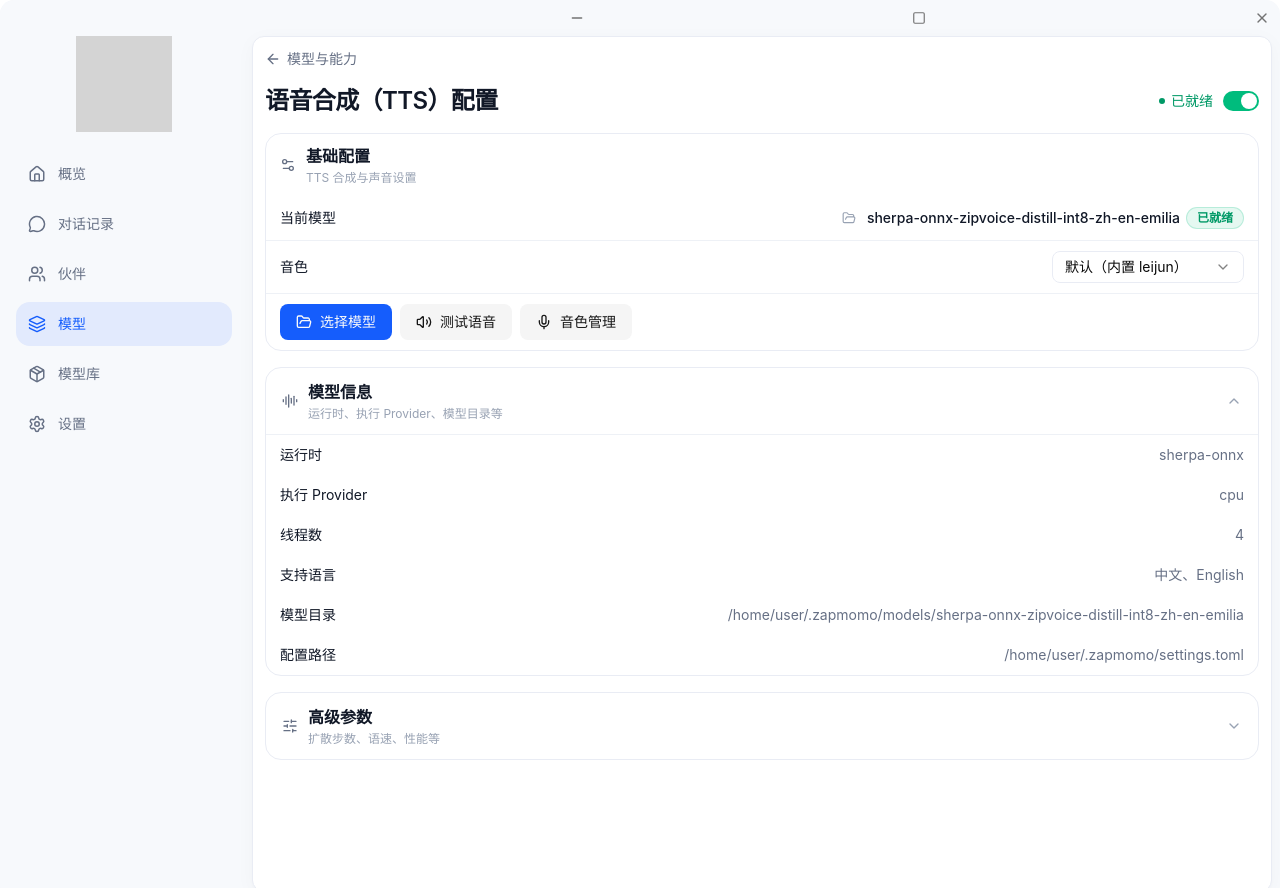
Test: TtsPage（语音合成 TTS） › 管理音色：在线录音调 record_tts_voice 并回填 wav 路径
Click the button "音色管理".
click(576, 322)  # box [520, 304, 632, 340]
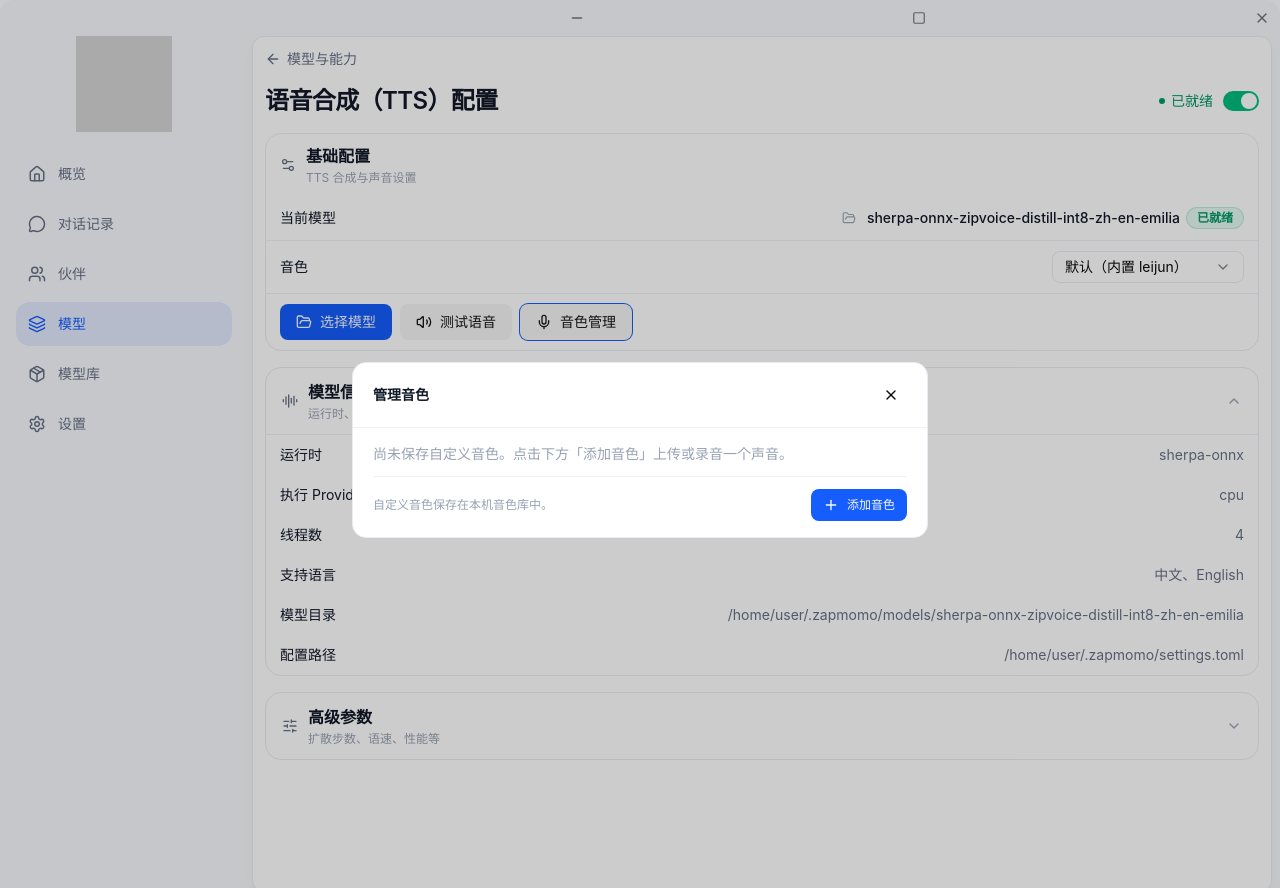
Click the button "添加音色".
click(859, 505)  # box [811, 489, 907, 521]
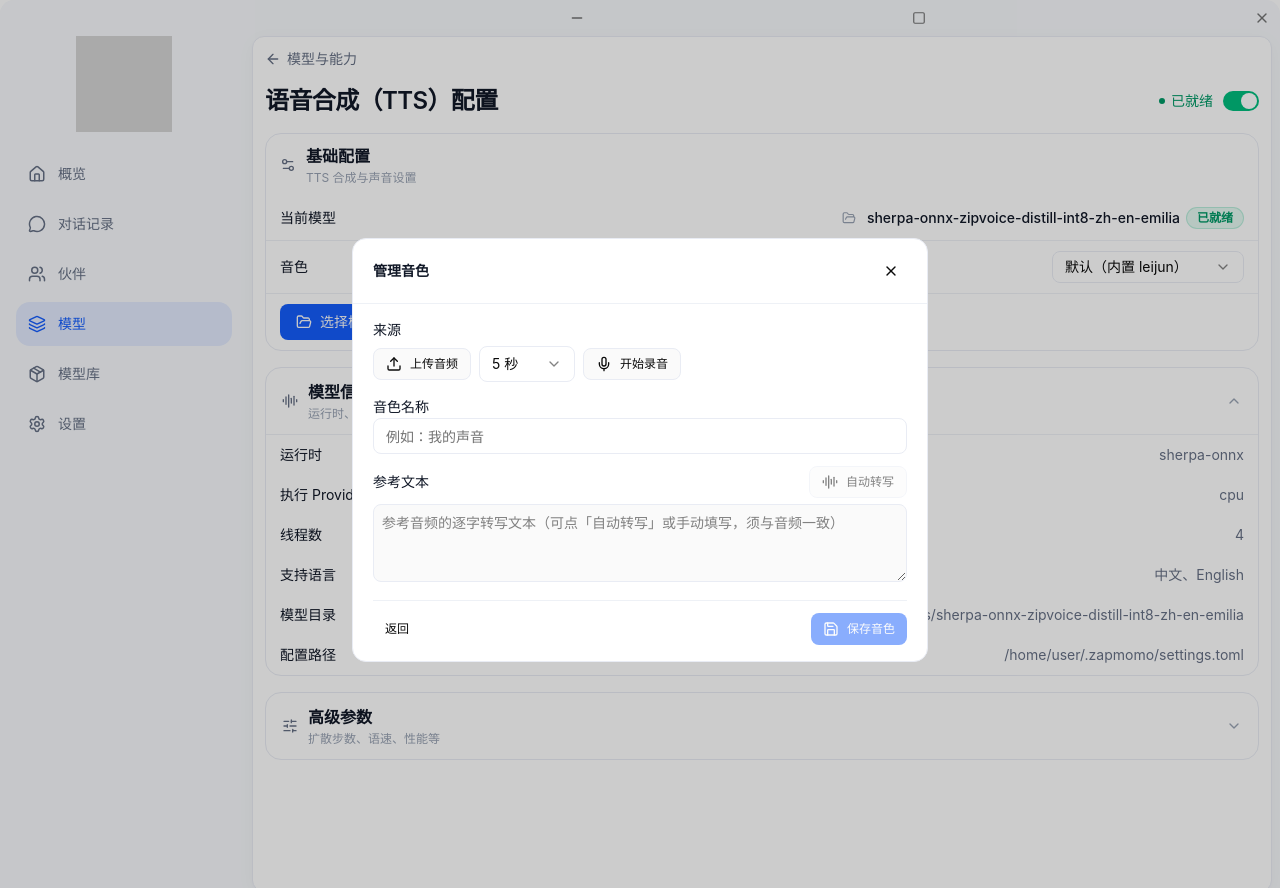
Click the button "开始录音".
click(632, 364)  # box [583, 348, 681, 380]
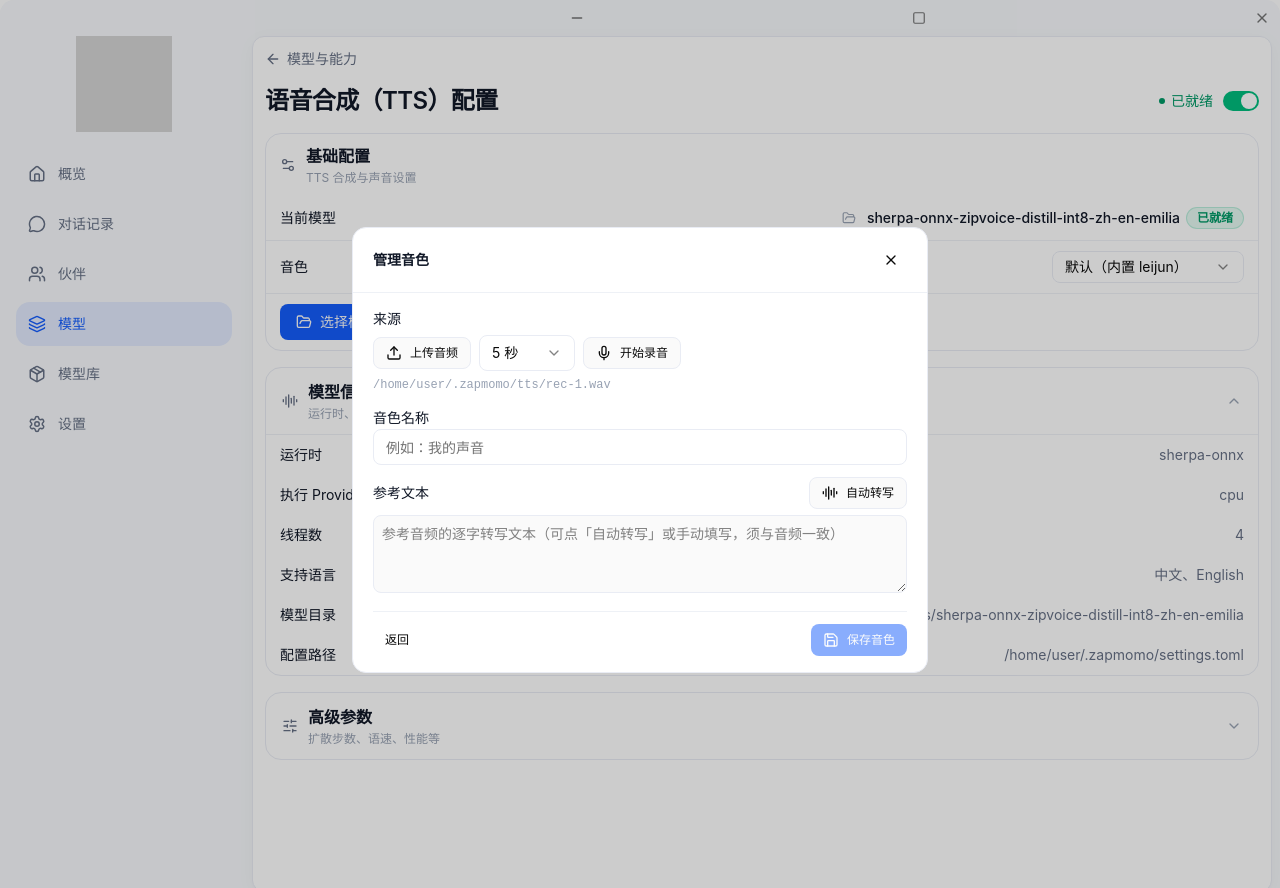
Result: the text "/home/user/.zapmomo/tts/rec-1.wav" is shown at [373, 378, 611, 392]
